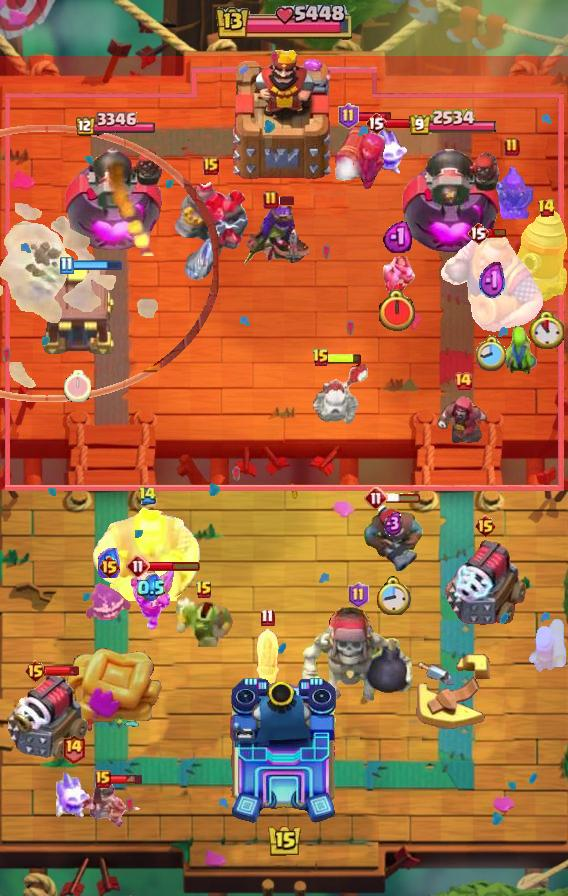arrows: (130, 563, 175, 630)
barbarian-hut: (238, 201, 324, 273)
bomb: (37, 263, 117, 357)
bowler: (436, 393, 490, 451)
cannoneer-tower: (172, 178, 250, 280)
clock: (213, 5, 355, 43)
electro-giant: (299, 605, 417, 719)
electro-spirit: (478, 261, 505, 302), (383, 219, 412, 253), (137, 574, 165, 602), (98, 548, 120, 578), (384, 511, 404, 536)
elixir: (377, 289, 417, 333), (376, 577, 412, 616), (529, 311, 564, 349), (476, 335, 508, 373), (65, 370, 91, 402)
emote: (147, 560, 201, 572), (71, 259, 123, 271), (327, 352, 363, 365), (386, 492, 422, 504), (44, 665, 80, 677), (108, 773, 144, 785), (385, 117, 420, 129), (356, 110, 393, 121), (276, 194, 296, 205), (487, 227, 507, 238)
evolution-symbol: (486, 161, 538, 219)
executioner: (251, 626, 283, 700)
flying-machine: (174, 597, 234, 647)
giant-skeleton: (439, 232, 545, 334), (92, 507, 202, 601)
golem: (442, 539, 528, 627), (4, 673, 90, 761)
king-tower: (228, 676, 340, 826), (229, 43, 339, 181)
magic-archer: (508, 209, 568, 303)
mega-minion: (331, 112, 389, 192)
mini-pekka: (298, 361, 370, 429)
mirror: (53, 769, 93, 821), (371, 126, 411, 176)
phoenix-small: (360, 503, 426, 573)
royal-delivery: (377, 253, 417, 295)
royal-ghost: (1, 125, 219, 404)
selected: (408, 109, 498, 137), (73, 112, 155, 138)
skeleton-dragon: (80, 778, 142, 830)
spear-goblin: (86, 582, 132, 626)
text: (62, 732, 87, 763), (364, 486, 388, 510), (126, 554, 150, 578), (337, 103, 359, 129), (475, 514, 498, 538), (99, 555, 122, 579), (24, 659, 47, 683), (348, 582, 369, 608), (365, 111, 387, 135), (467, 221, 489, 245), (453, 371, 473, 391), (537, 198, 556, 218), (138, 486, 157, 505), (312, 348, 330, 368), (195, 580, 213, 600), (504, 137, 520, 157), (263, 190, 279, 210), (203, 157, 219, 175), (95, 770, 111, 788), (59, 257, 73, 275), (261, 609, 275, 627)
tombstone: (526, 616, 568, 674)
tower-bar: (401, 138, 505, 256), (63, 138, 164, 256)
zap: (499, 325, 539, 377)
